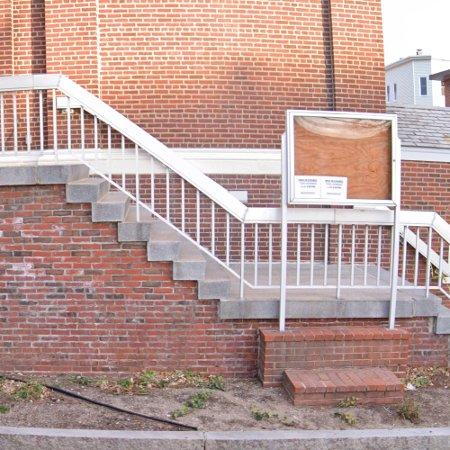stairs: (0, 165, 278, 320), (287, 291, 391, 319), (399, 291, 450, 334)
